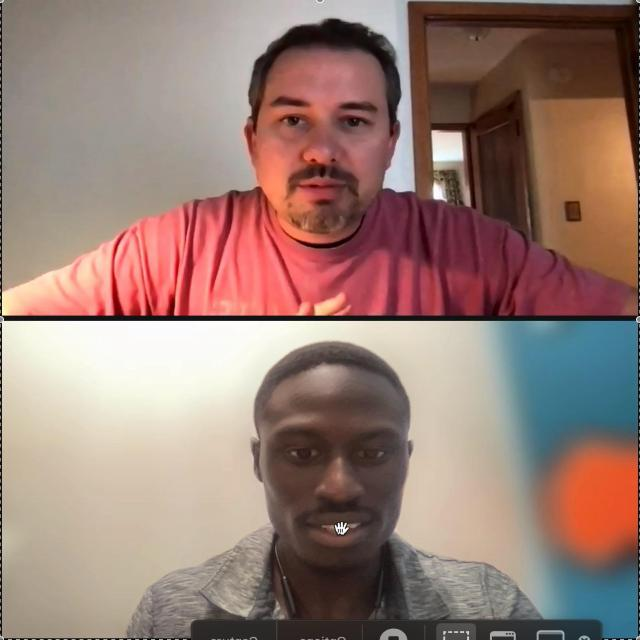face: (246, 361, 414, 573), (241, 46, 402, 238)
